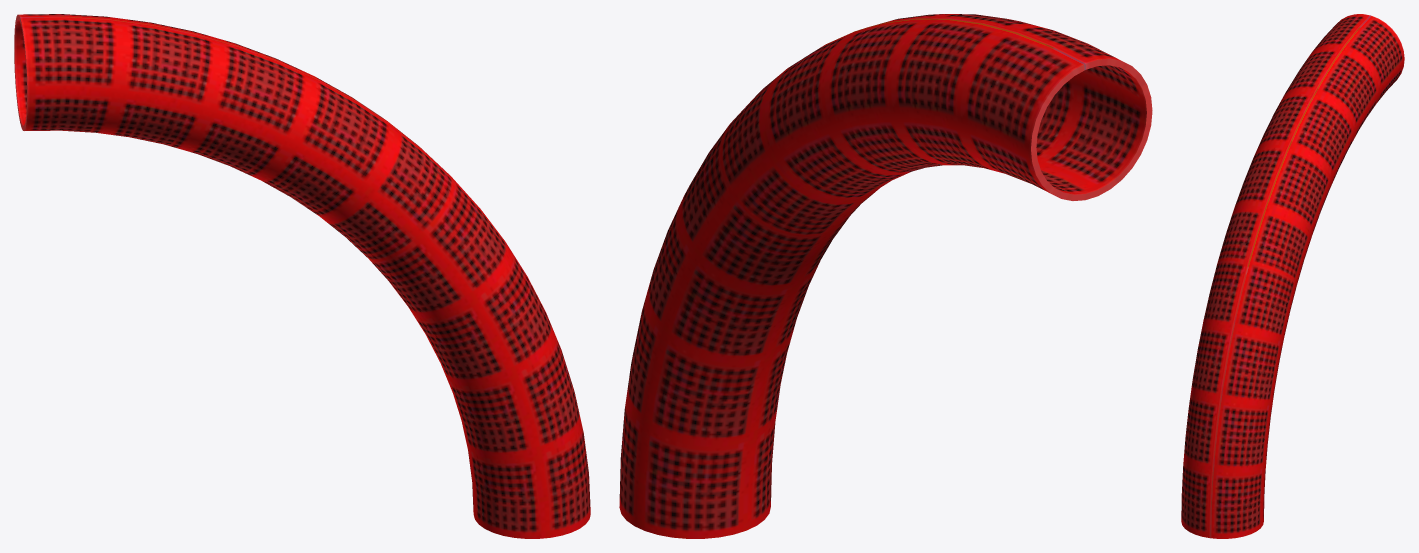
Rendered from ringCurve3 (2).fbx.
The picture shows the model from 3 angles, left to right: view 1: azimuth 30°, elevation 25°; view 2: azimuth 150°, elevation 25°; view 3: azimuth 270°, elevation 25°; orthographic projection. The views are drawn at different scales.
Visible parts, largest first — view 1: ringCurve3 (2); view 2: ringCurve3 (2); view 3: ringCurve3 (2).
Boxes of the visible parts, x1=… form: ringCurve3 (2): x1=14, y1=14, x2=590, y2=538; ringCurve3 (2): x1=619, y1=14, x2=1152, y2=538; ringCurve3 (2): x1=1181, y1=14, x2=1404, y2=538.
Bounding box in the file's own units: 260 × 269 × 149.
Materials: 1 (1 with a texture image).
